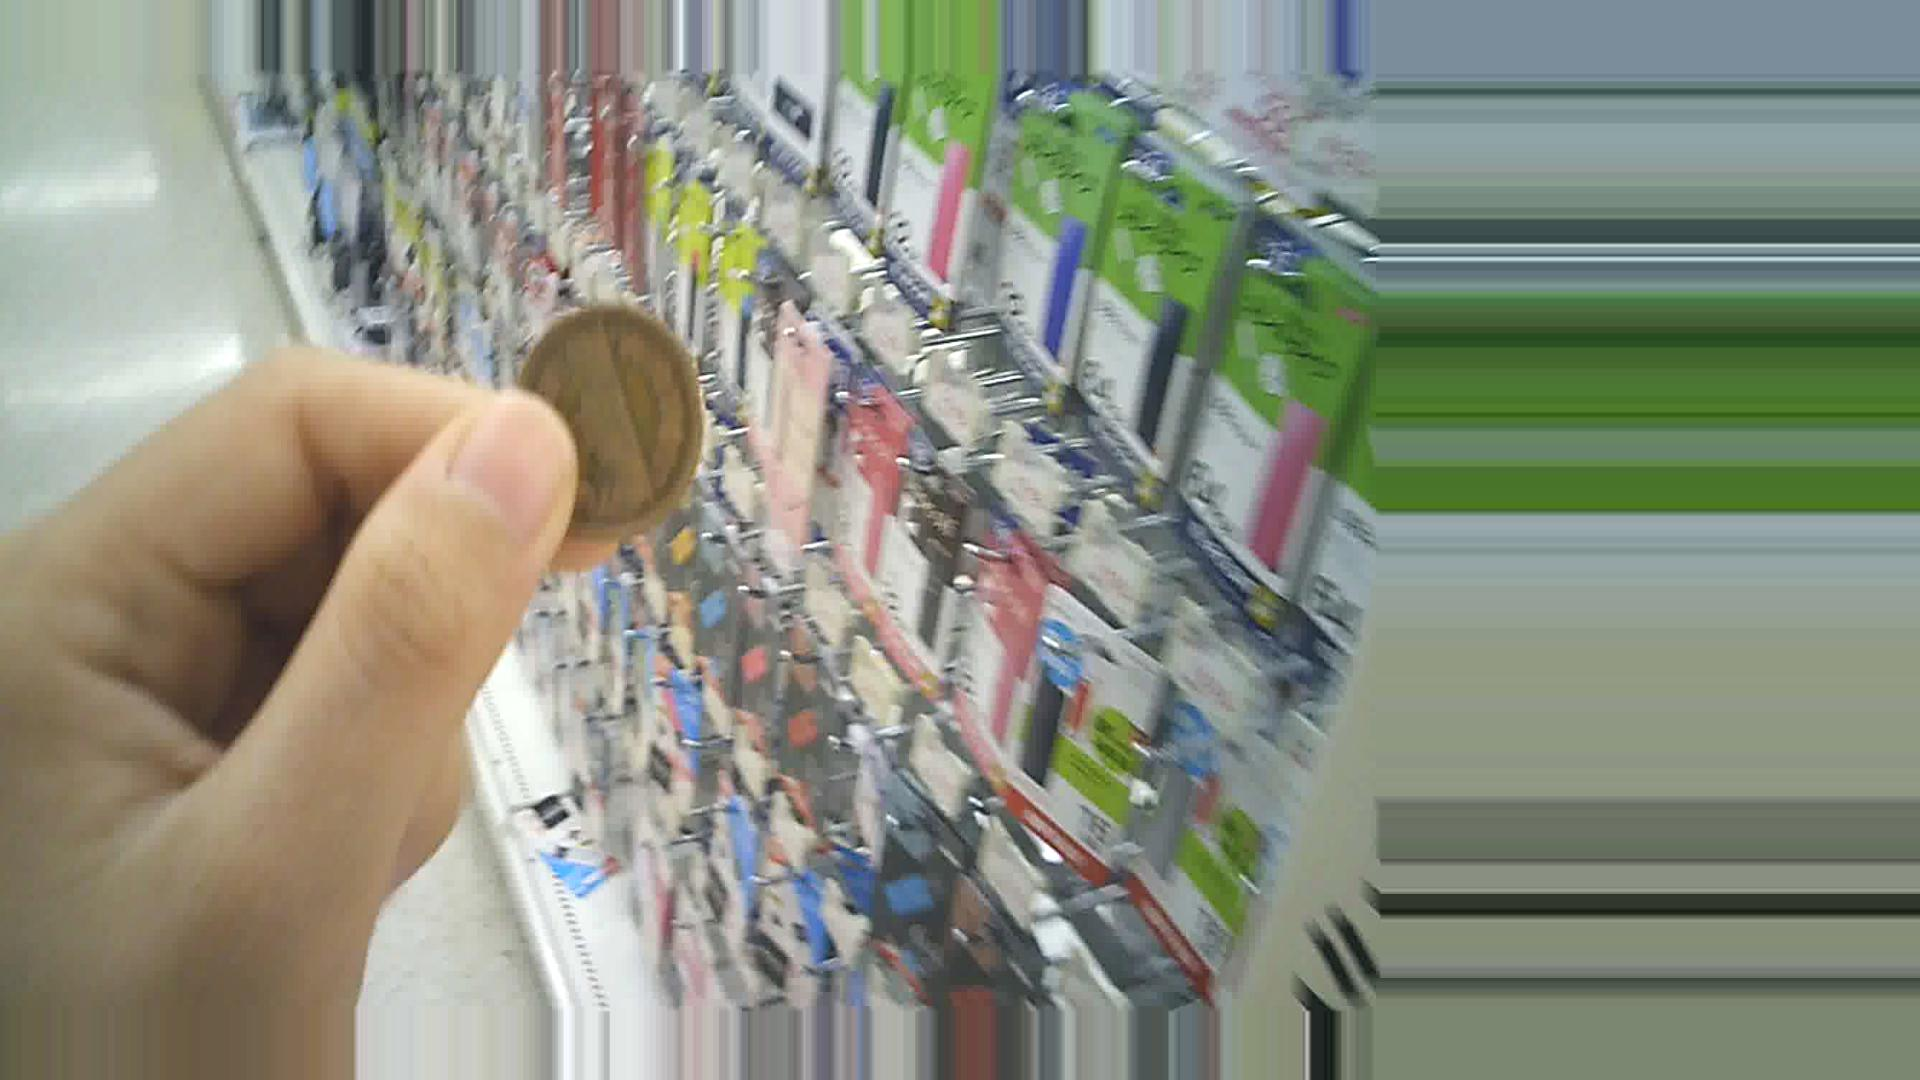10 Yen: (512, 306, 712, 527)
